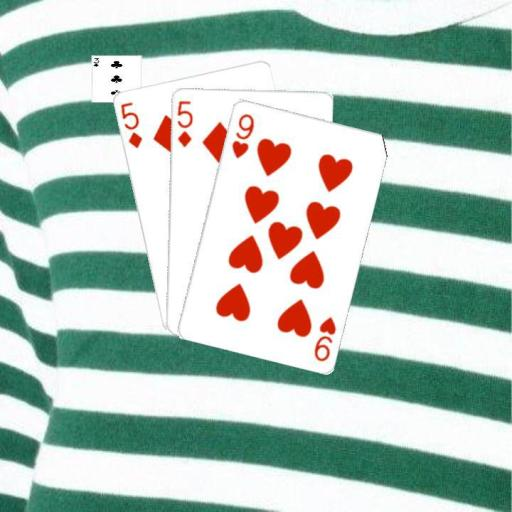5D: (117, 99, 144, 149), (174, 97, 194, 148)
9H: (311, 313, 338, 363), (229, 111, 256, 160)
